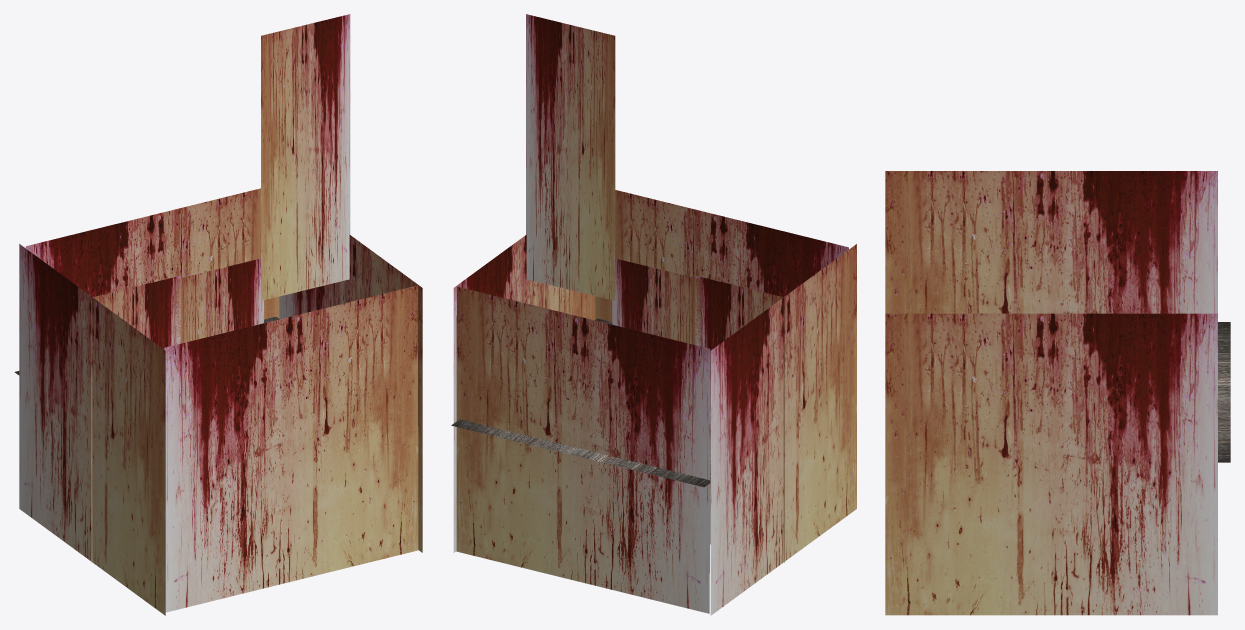
Rendered from haunted-house.glb.
The picture shows the model from 3 angles, left to right: view 1: azimuth 30°, elevation 25°; view 2: azimuth 150°, elevation 25°; view 3: azimuth 270°, elevation 25°; orthographic projection. The views are drawn at different scales.
Parts seen in each view (by area): view 1: Plane (×7); view 2: Plane (×8); view 3: Plane (×3).
Part boxes in pixels (x1,y1,x2,y2): Plane (×7): (19,14,422,615); Plane (×8): (451,14,856,615); Plane (×3): (885,171,1230,615).
Bounding box in the file's own units: 2.04 × 3.68 × 2.08.
Materials: 2 (2 with a texture image).
